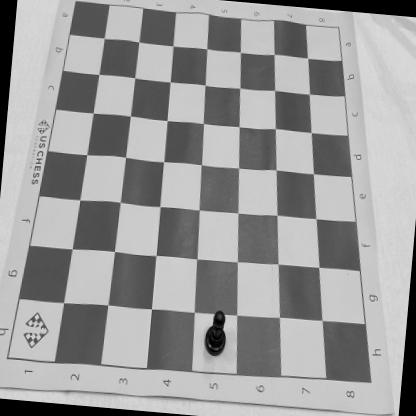black-pawn: (202, 309, 229, 358)
